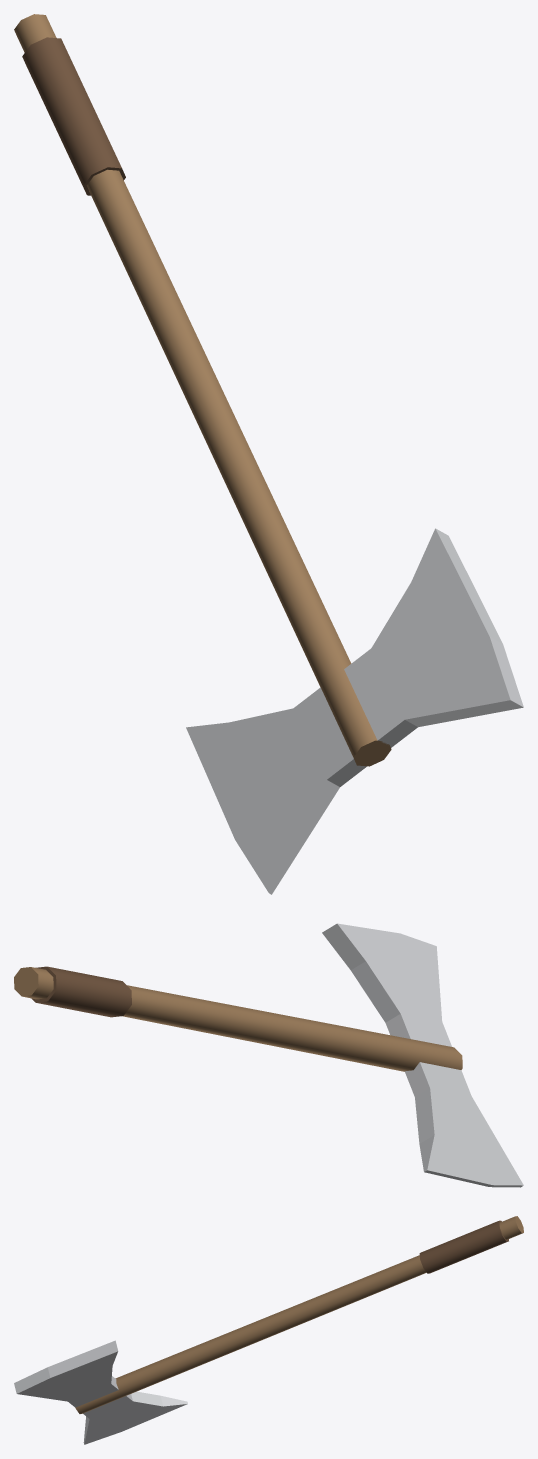
Rendered from wpn_greataxe.glb.
3 renders of one model, top to bottom at view 1: azimuth 30°, elevation 25°; view 2: azimuth 150°, elevation 25°; view 3: azimuth 270°, elevation 25°, orthographic. The views are drawn at different scales.
Visible parts, largest first — view 1: wpn_greataxe; view 2: wpn_greataxe; view 3: wpn_greataxe.
Boxes of the visible parts, x1,y1,x2,y2 form: wpn_greataxe: (14,14,523,894); wpn_greataxe: (14,923,523,1187); wpn_greataxe: (14,1216,523,1444).
Size of the model in its own units: 0.1428 by 0.3398 by 0.5732.
